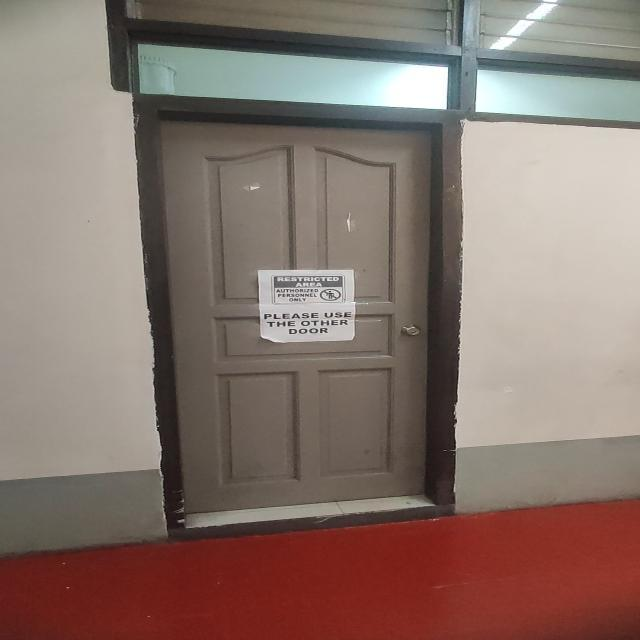door: (120, 94, 465, 554)
